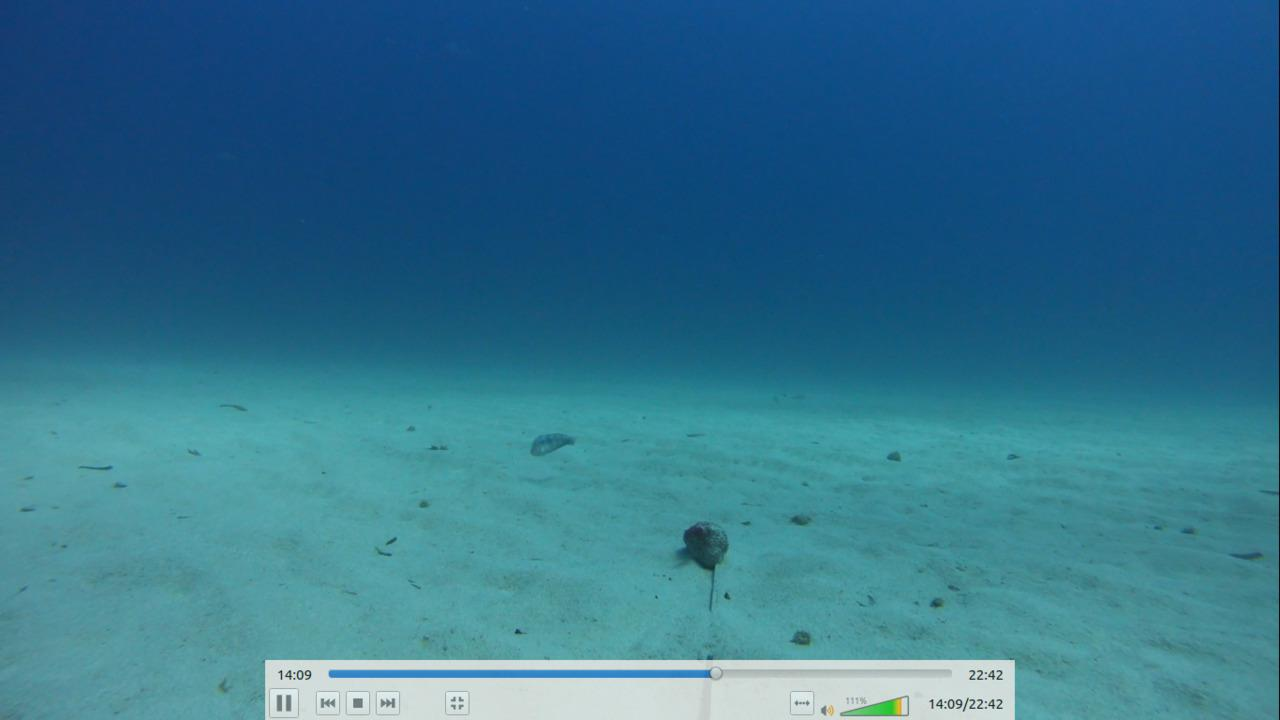raor: (524, 427, 581, 460)
